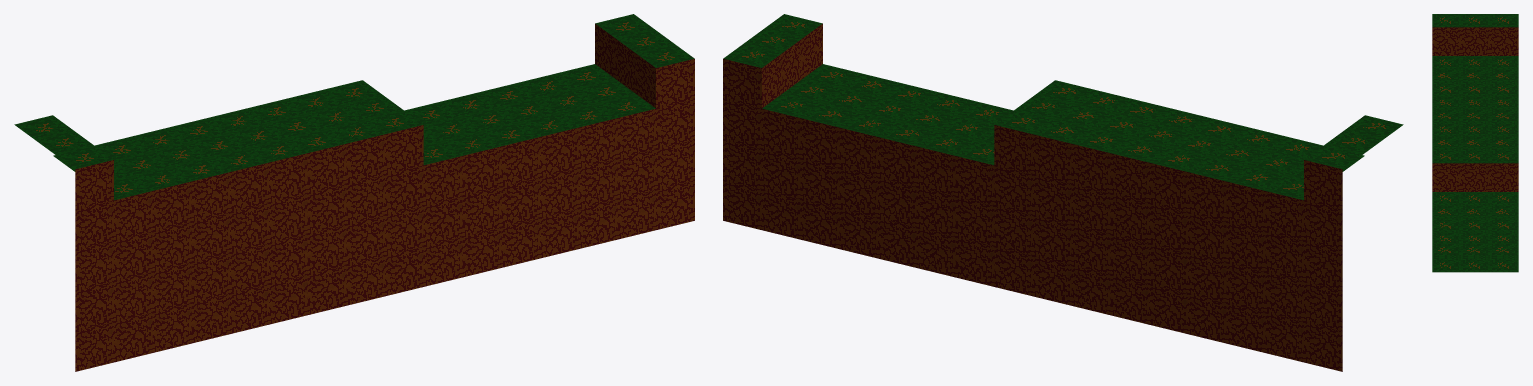
Rendered from EndRoom5Fragil4Piso-ccd560539693.glb.
3 views of the same model, side by side, from view 1: azimuth 30°, elevation 25°; view 2: azimuth 150°, elevation 25°; view 3: azimuth 270°, elevation 25° (orthographic). The views are drawn at different scales.
Parts seen in each view (by area): view 1: Setor_2; view 2: Setor_2; view 3: Setor_2.
Part boxes in pixels (x1,y1,x2,y2): Setor_2: [14, 14, 694, 371]; Setor_2: [723, 14, 1403, 371]; Setor_2: [1432, 14, 1518, 272].
Bounding box in the file's own units: 16.64 × 5.2 × 2.84.
1 material, 1 textured.
